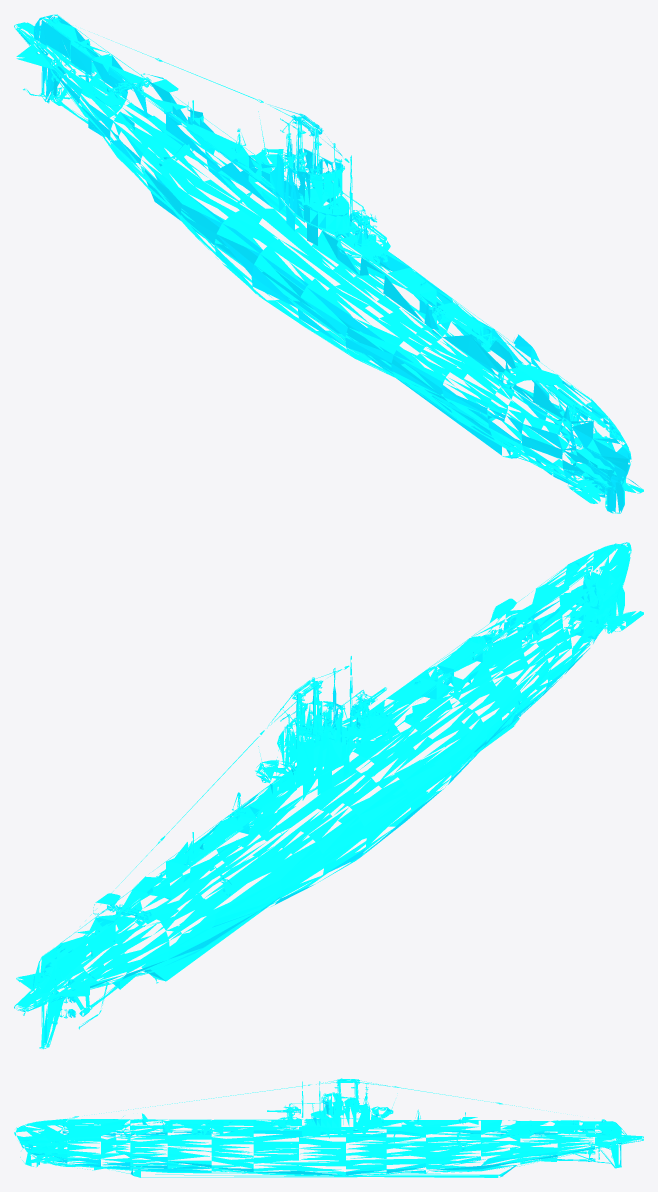
The model's file is PBSS108.glb.
3 views of the same model, one above another, from view 1: azimuth 30°, elevation 25°; view 2: azimuth 150°, elevation 25°; view 3: azimuth 270°, elevation 25° (orthographic). The views are drawn at different scales.
Visible parts, largest first — view 1: hull_bow, secondary_battery; view 2: hull_bow; view 3: hull_bow, secondary_battery.
Part boxes in pixels (box(x1,y1,x2,y2)): hull_bow: box(14, 14, 643, 513); secondary_battery: box(348, 209, 386, 248); hull_bow: box(14, 542, 643, 1049); hull_bow: box(14, 1078, 643, 1177); secondary_battery: box(267, 1104, 300, 1124).
Size of the model in its own units: 0.4792 by 0.7585 by 4.41.
